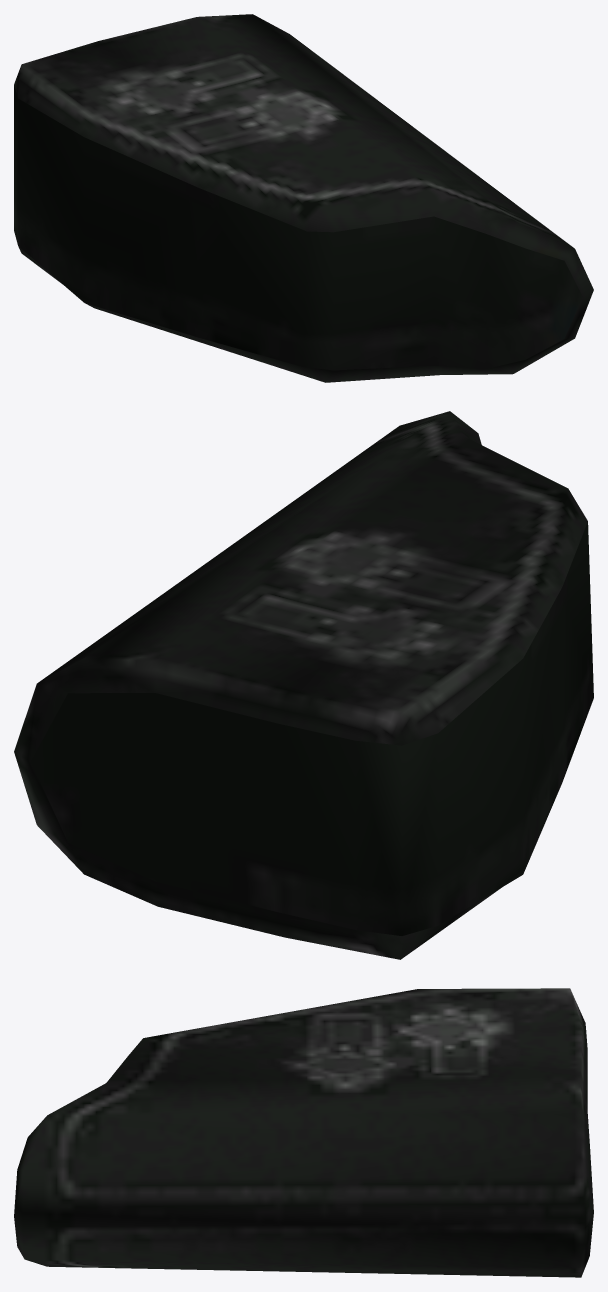
Rendered from Pickup_WeaponQt05.glb.
3 renders of one model, top to bottom at view 1: azimuth 30°, elevation 25°; view 2: azimuth 150°, elevation 25°; view 3: azimuth 270°, elevation 25°, orthographic. The views are drawn at different scales.
Parts seen in each view (by area): view 1: pk_weapon_qt05; view 2: pk_weapon_qt05; view 3: pk_weapon_qt05.
Boxes of the visible parts, <box> form: pk_weapon_qt05: <box>14,14,593,382</box>; pk_weapon_qt05: <box>14,411,593,959</box>; pk_weapon_qt05: <box>14,988,593,1277</box>.
Size of the model in its own units: 0.3452 by 0.2005 by 0.5645.
Materials: 1 (1 with a texture image).
